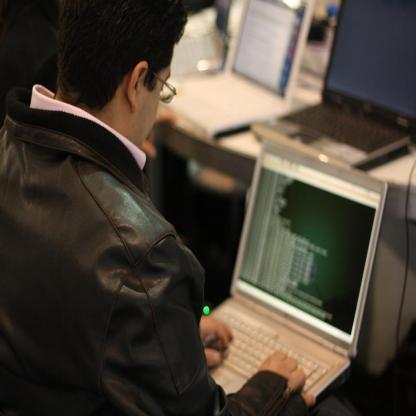board: (191, 129, 383, 416), (250, 2, 416, 169), (164, 0, 314, 138), (171, 2, 230, 75)
